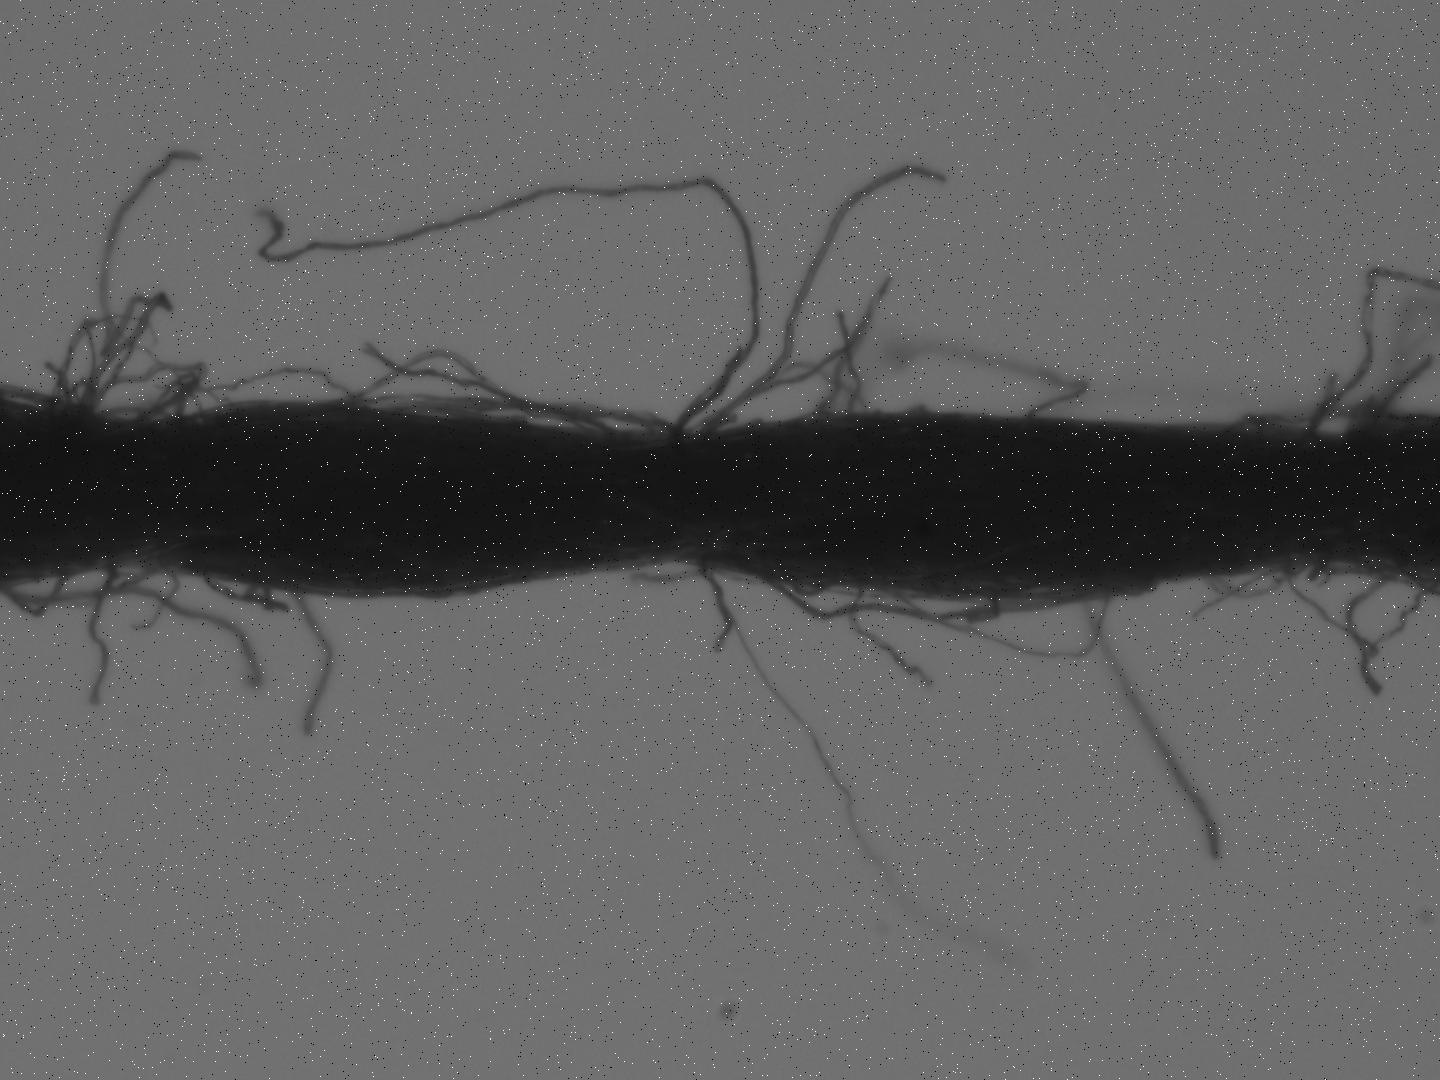loop_fiber: (315, 341, 693, 450), (747, 565, 1115, 663), (39, 284, 217, 437), (1273, 549, 1432, 701), (7, 560, 163, 605), (5, 567, 73, 621), (1203, 562, 1294, 598), (1234, 410, 1367, 433), (780, 576, 831, 599)
protruding_fiber: (683, 162, 945, 440)
